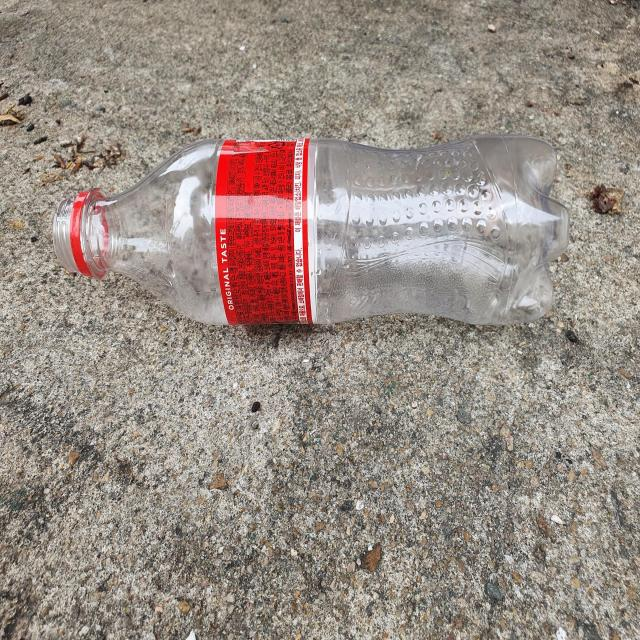plastic: (52, 135, 570, 324)
